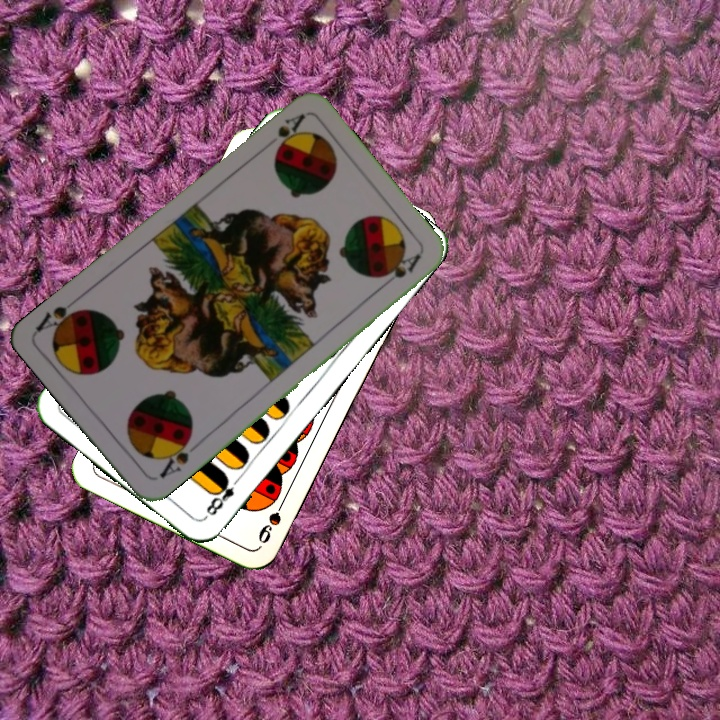E8: (202, 472, 244, 519)
S9: (254, 492, 289, 547)
SA: (155, 432, 202, 481), (269, 110, 308, 157)
